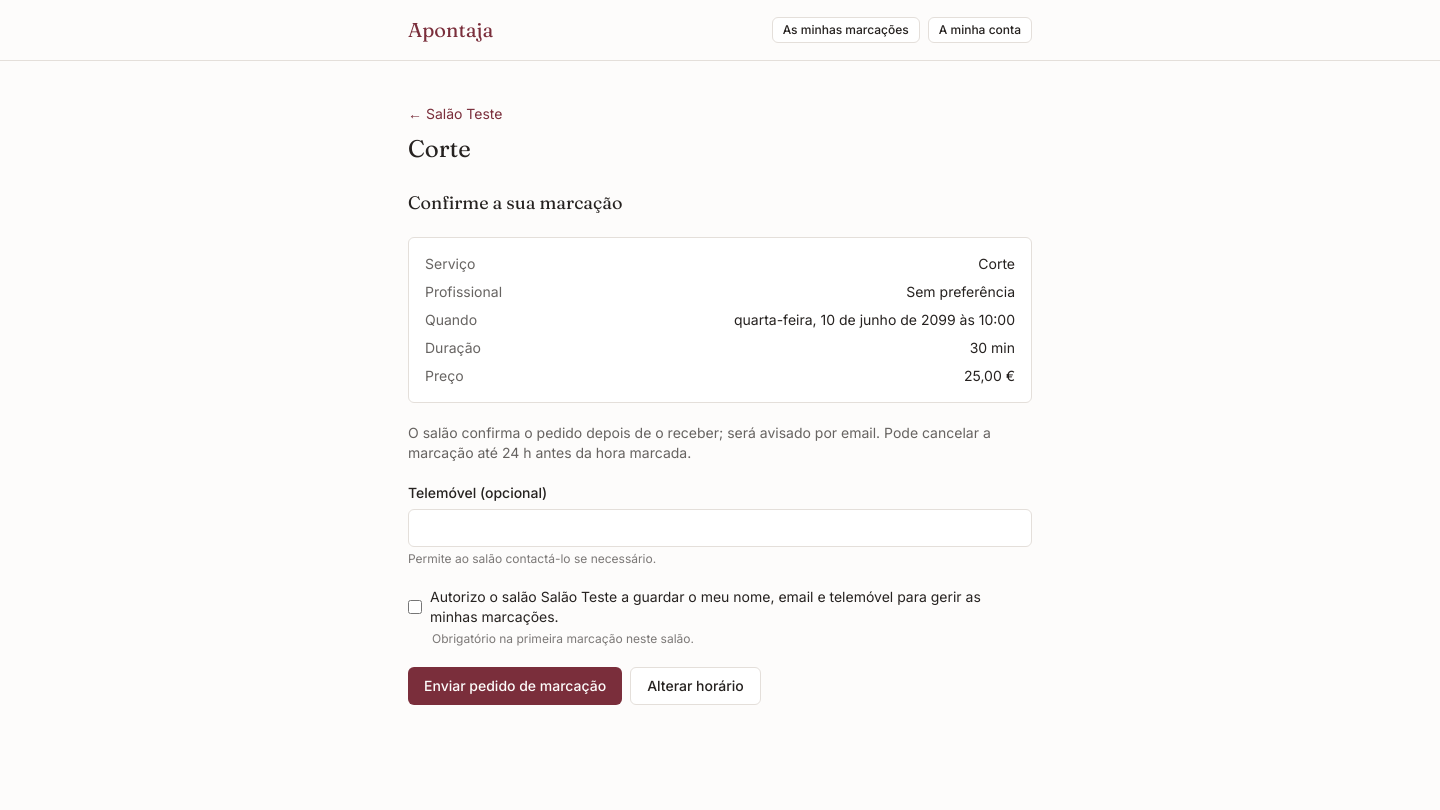
it: BookingView (portail client) › envoie la réservation et affiche « demande envoyée » si le salon confirme à la main
This screenshot has width=1440, height=810.
Type "912345678" into the field labelled "Telemóvel (opcional)".
click(720, 528); type("912345678")  # box [408,509,1032,547]
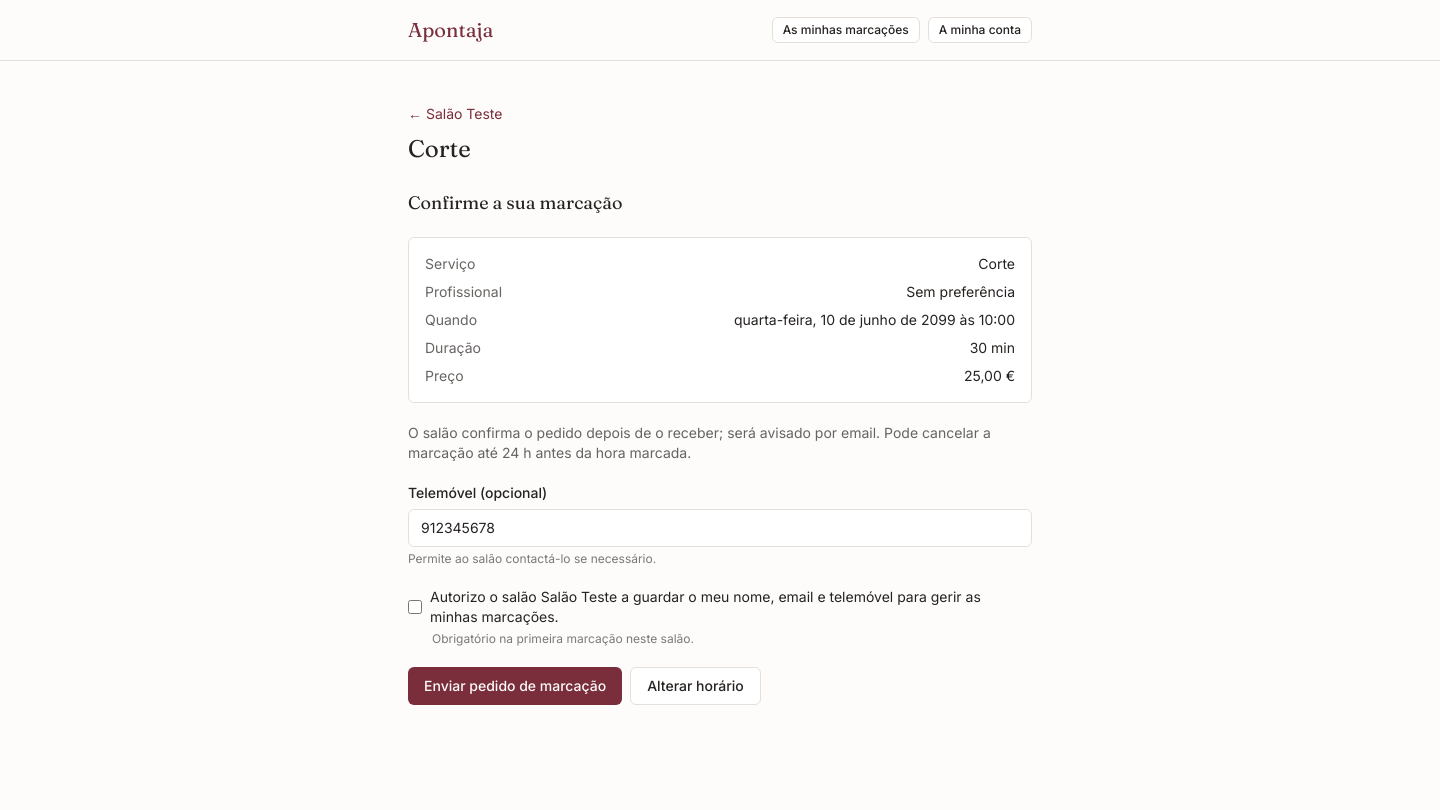
Click the checkbox.
click(415, 607)  # box [408,599,422,615]
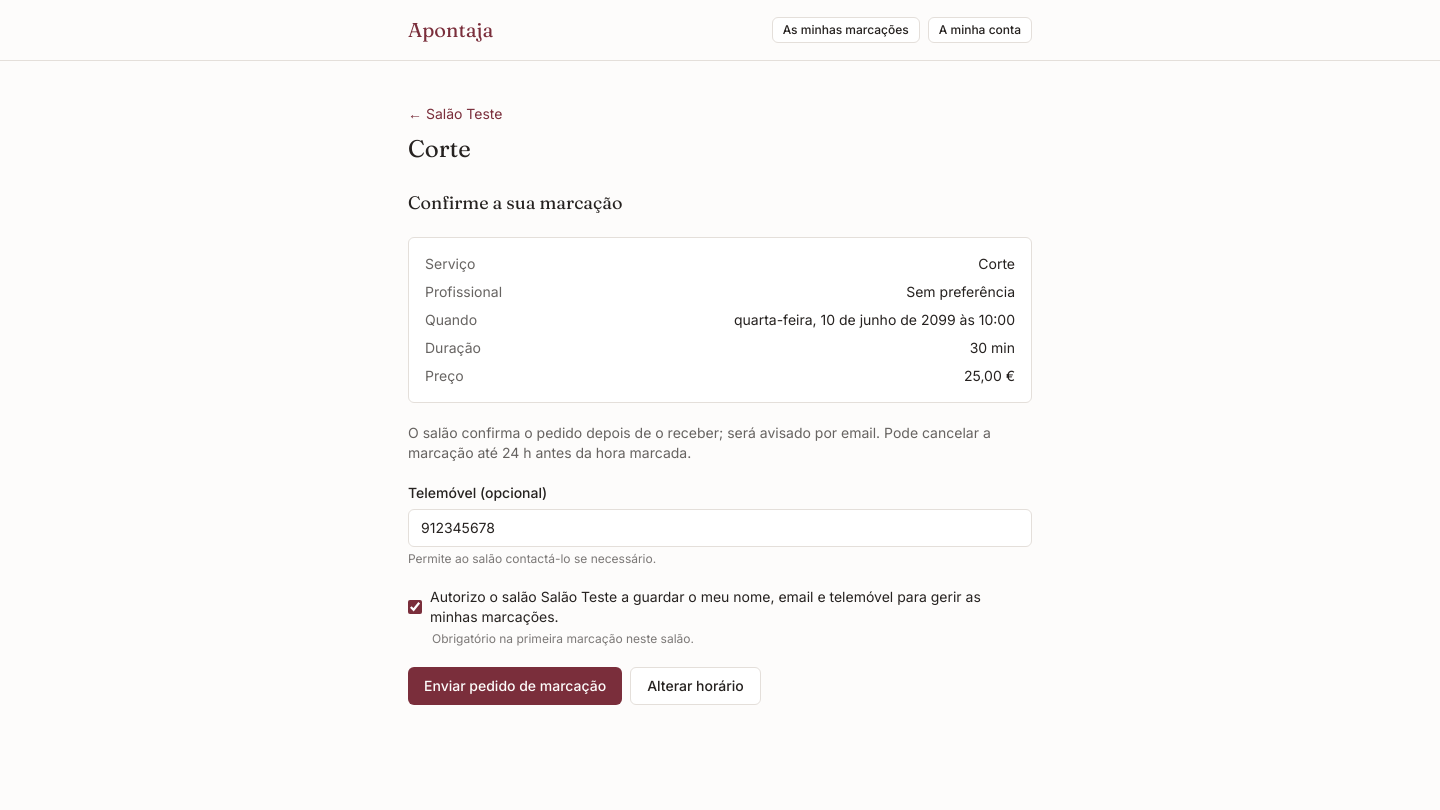
Submit the form, box [408,483,1032,705]
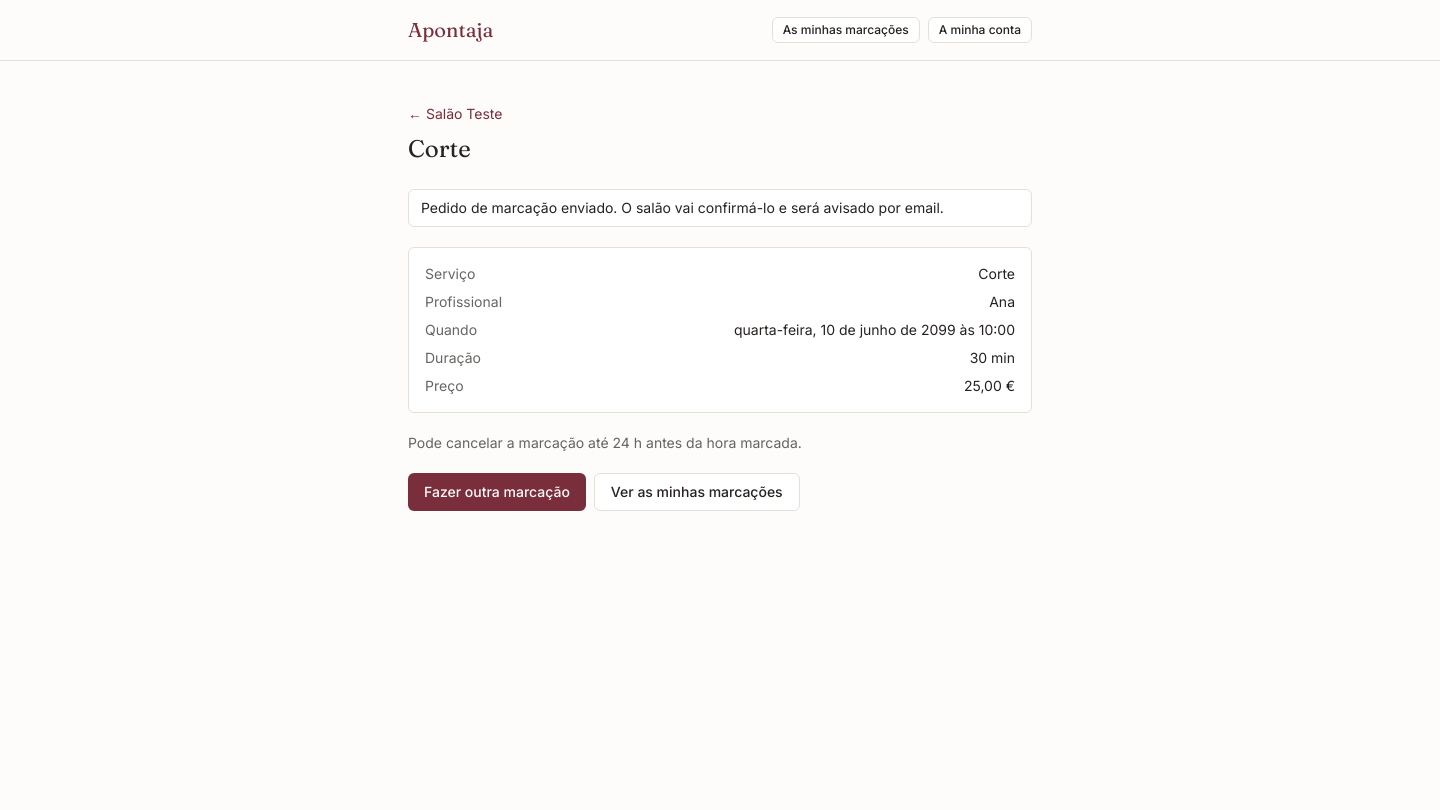
Result: the text "Pedido de marcação enviado" is shown at [421,199,944,216]
